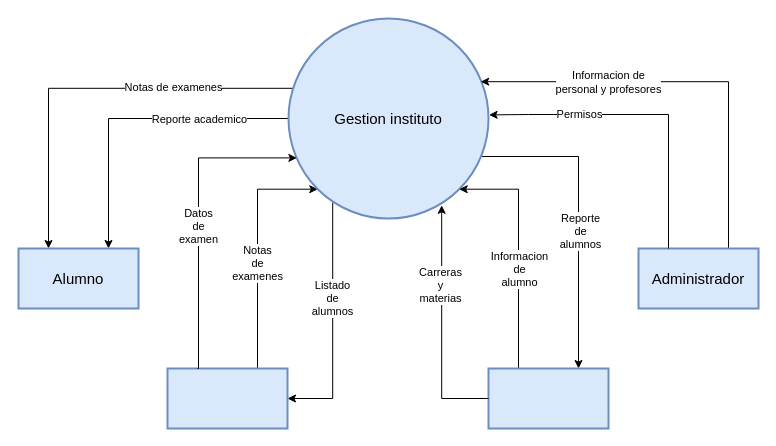
Image size: 776x446. Some labels were removed from this diagram. Here are the shapes that lost their labels. From the top down, the centre of each, then its label:
At [227,398]: "Profesor".
At [548,398]: "Personal administrativo".
